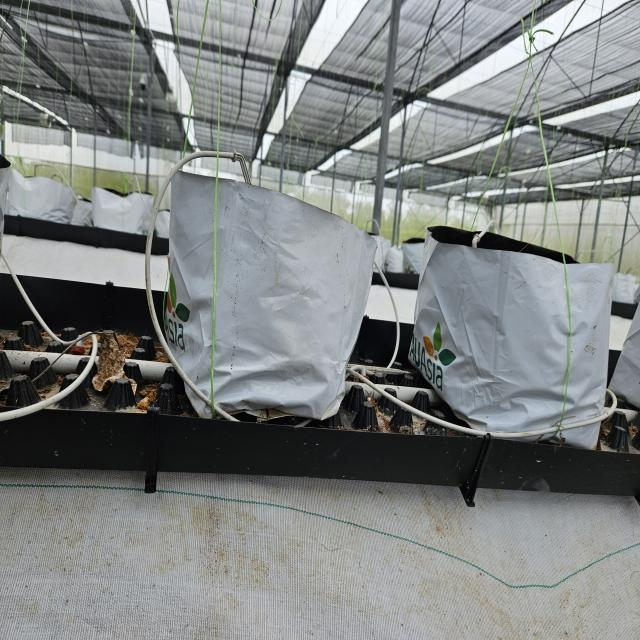Soilbag: (150, 159, 395, 425), (409, 226, 617, 448)
